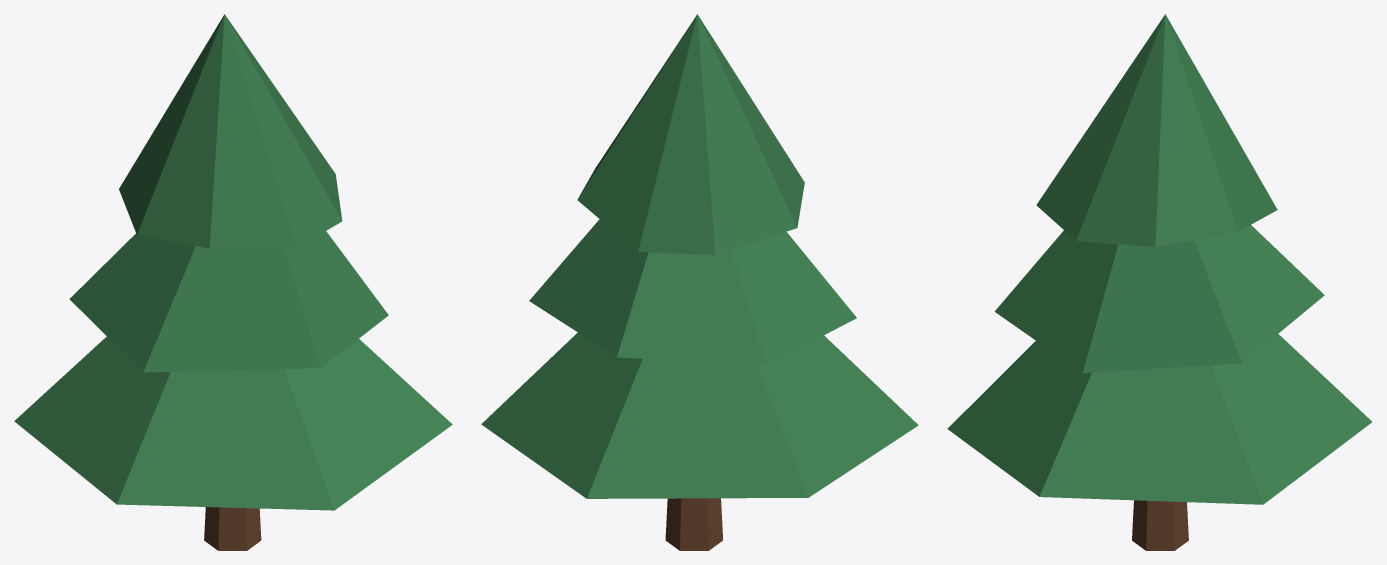
Rendered from Pine_B.glb.
3 renders of one model, left to right at view 1: azimuth 30°, elevation 25°; view 2: azimuth 150°, elevation 25°; view 3: azimuth 270°, elevation 25°, orthographic.
Visible parts, largest first — view 1: Pine_B; view 2: Pine_B; view 3: Pine_B.
Boxes of the visible parts, x1,y1,x2,y2 form: Pine_B: [14, 14, 452, 550]; Pine_B: [481, 14, 918, 550]; Pine_B: [947, 14, 1371, 550].
Bounding box in the file's own units: 2.92 × 4.46 × 3.28.
